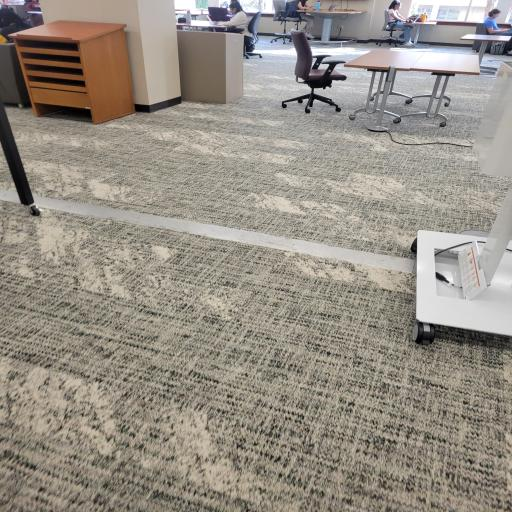chair: (281, 27, 345, 114)
table: (346, 38, 486, 136)
